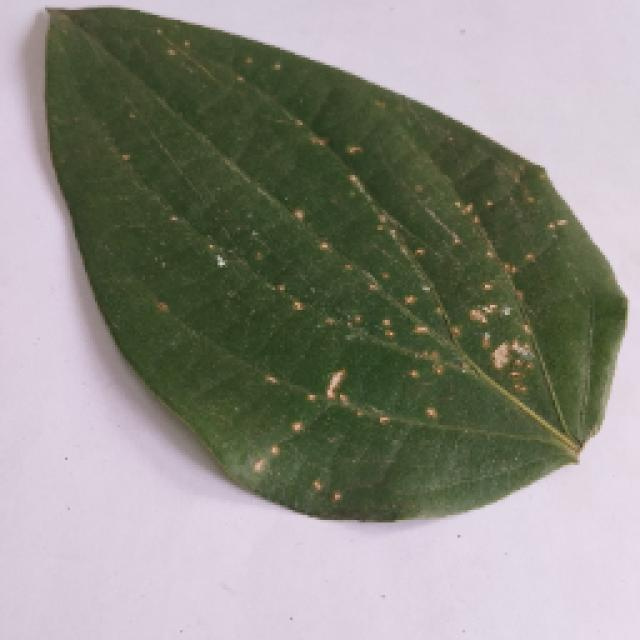pollu-disease: (22, 18, 618, 530)
